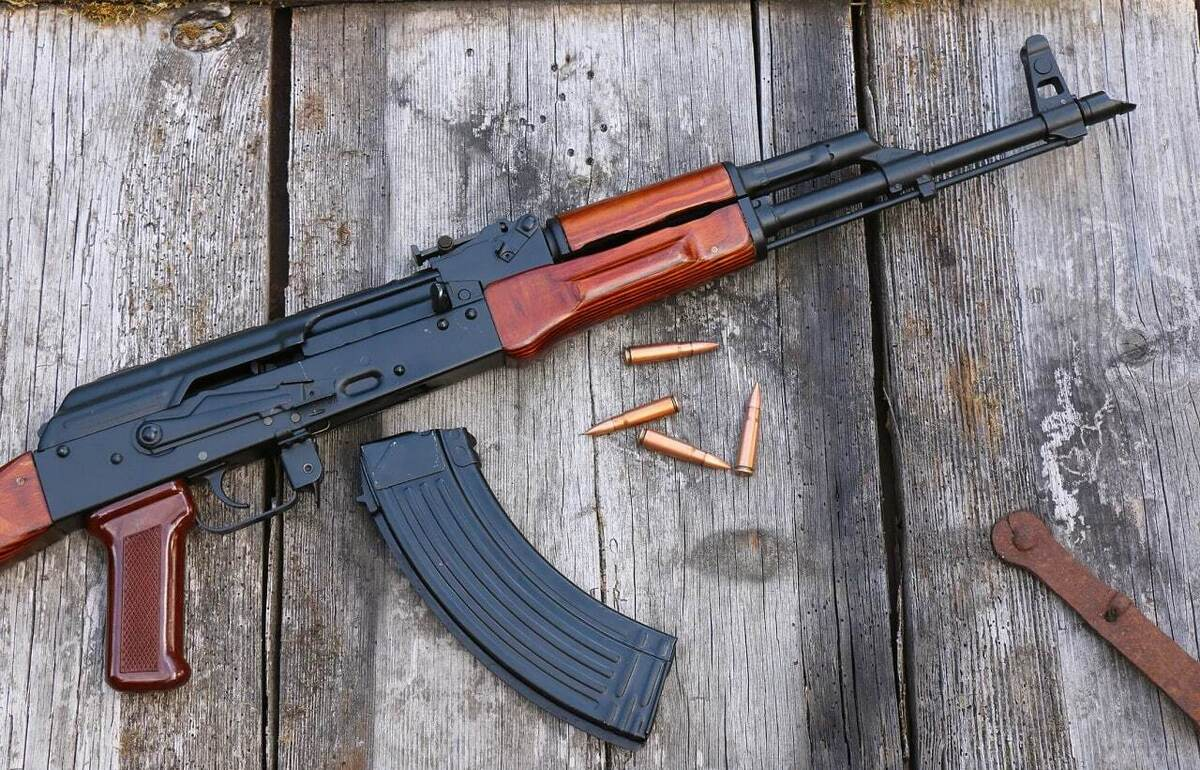Weapon: (26, 30, 1152, 707)
